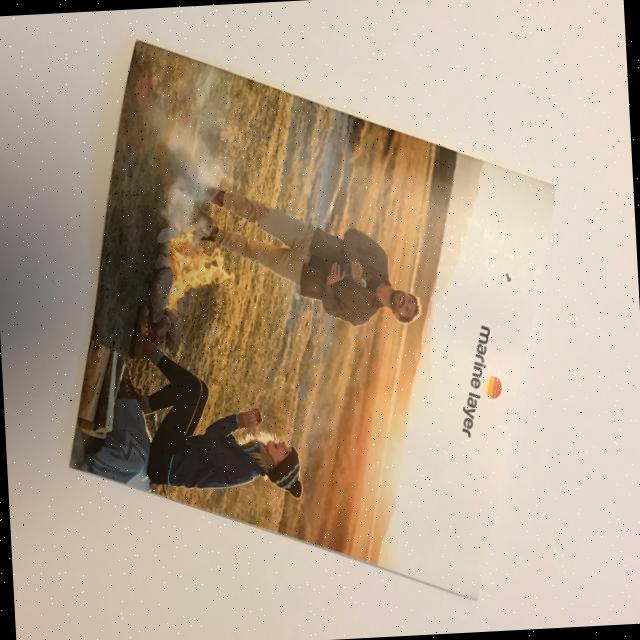paper: (45, 16, 578, 624)
